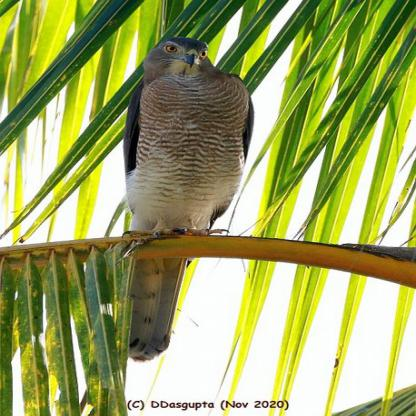Burung: (122, 36, 252, 360)
